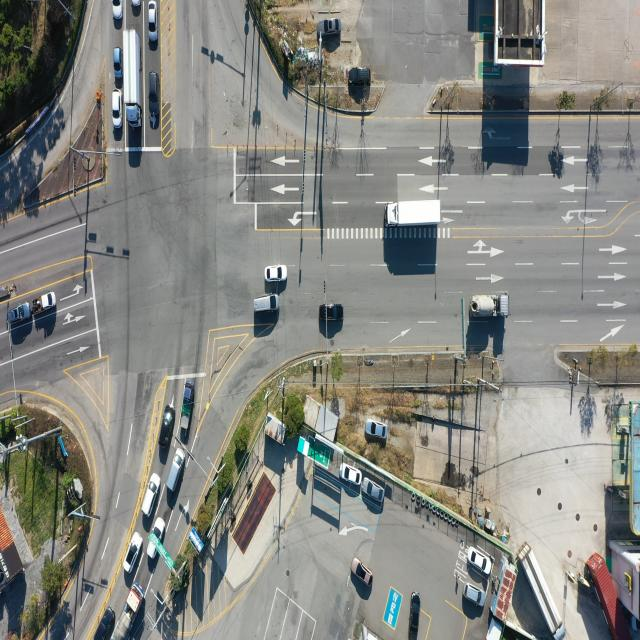car: (147, 517, 166, 564), (141, 473, 160, 518), (167, 447, 185, 493), (125, 532, 144, 573), (95, 603, 116, 640), (470, 547, 494, 576), (350, 559, 373, 587), (159, 407, 173, 450), (148, 70, 160, 118), (463, 584, 485, 608), (254, 295, 280, 315), (318, 19, 340, 42), (363, 480, 384, 503), (364, 419, 386, 440), (321, 304, 345, 323), (342, 463, 362, 485), (10, 304, 32, 324), (349, 66, 372, 85), (411, 592, 422, 630), (112, 89, 122, 127), (266, 266, 287, 284), (148, 3, 157, 42), (113, 48, 122, 78), (111, 0, 122, 20), (133, 0, 141, 8)
medium_truck: (522, 542, 566, 638), (112, 581, 144, 640), (386, 200, 440, 229), (126, 30, 142, 124), (470, 294, 510, 320)
small_truck: (180, 378, 193, 434), (32, 292, 54, 312)
